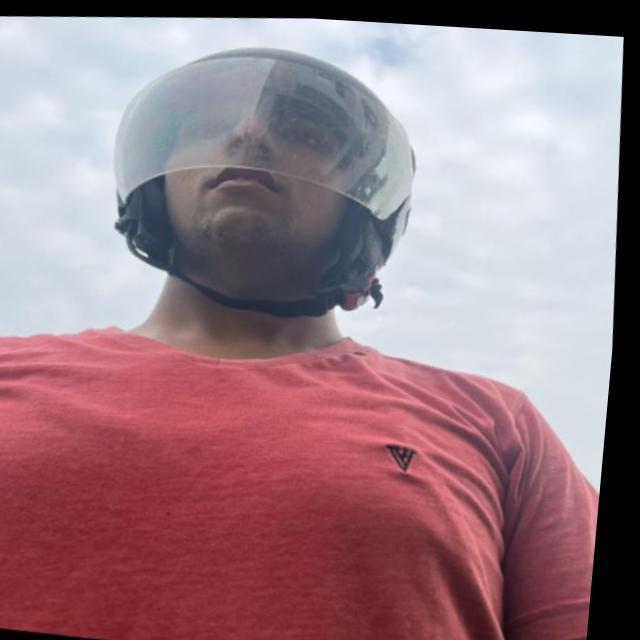WITH_HELMET: (65, 9, 467, 342)
